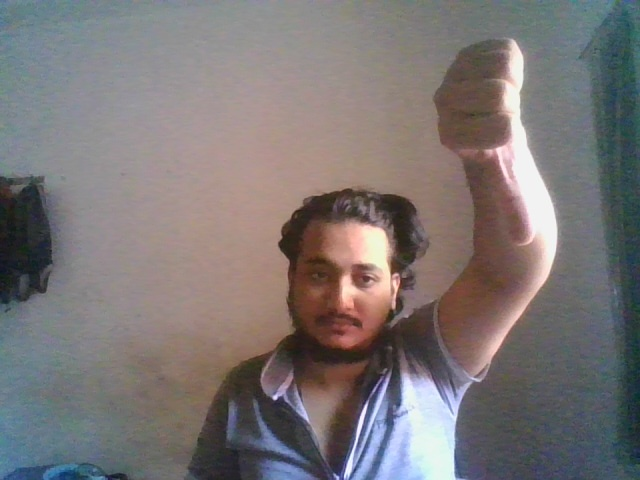ThumbsDown: (435, 38, 538, 247)
